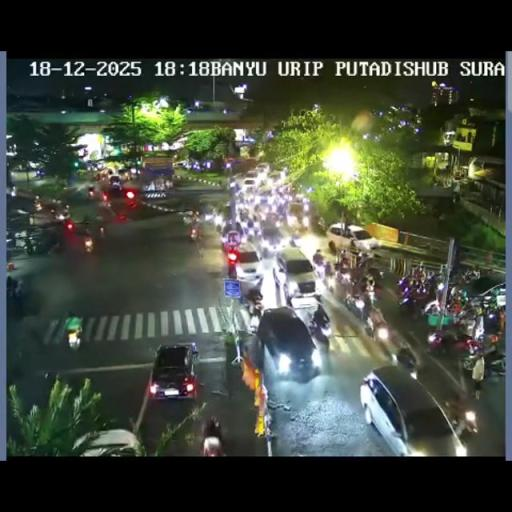Car: (362, 364, 466, 454), (256, 306, 322, 382), (148, 342, 198, 401), (280, 247, 320, 304), (74, 429, 142, 456), (326, 222, 378, 252), (228, 241, 262, 282), (286, 200, 311, 234), (258, 224, 286, 254), (221, 220, 243, 247), (240, 170, 262, 188), (267, 170, 284, 184), (254, 162, 270, 176), (109, 176, 122, 190)
Motorcycle: (398, 274, 436, 316), (480, 341, 506, 378), (344, 289, 370, 324), (453, 299, 486, 326), (309, 314, 330, 354), (201, 418, 224, 454), (448, 332, 481, 357), (461, 352, 481, 393), (366, 303, 388, 339), (479, 306, 503, 335), (64, 310, 82, 348), (426, 330, 452, 356), (395, 346, 418, 375), (455, 267, 481, 286), (462, 406, 478, 434), (323, 266, 339, 293), (96, 198, 114, 222), (364, 266, 383, 288), (246, 306, 262, 331), (355, 249, 373, 271), (6, 276, 20, 302), (188, 213, 201, 240), (246, 286, 262, 306), (434, 210, 449, 231), (338, 251, 352, 273), (4, 234, 18, 256), (43, 370, 61, 384), (313, 249, 325, 268), (82, 234, 94, 252), (22, 238, 34, 256), (289, 227, 301, 244), (317, 217, 327, 233), (348, 238, 358, 254), (61, 204, 70, 218), (34, 198, 43, 211), (328, 240, 336, 254), (452, 190, 460, 203), (98, 224, 105, 238), (165, 178, 172, 190), (216, 224, 222, 234)
